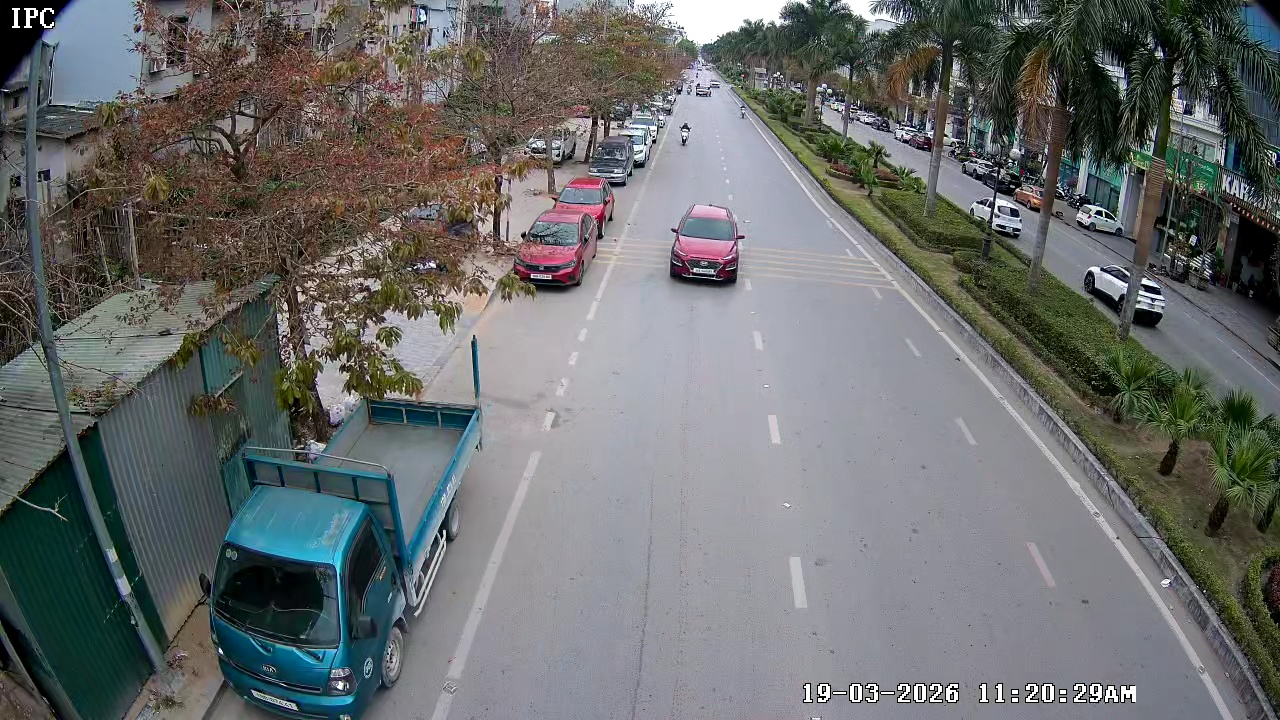car: (668, 203, 747, 286), (514, 208, 593, 290), (554, 177, 615, 237), (587, 132, 634, 190), (696, 85, 712, 98)
motorbike: (678, 119, 693, 147), (738, 102, 748, 119)
